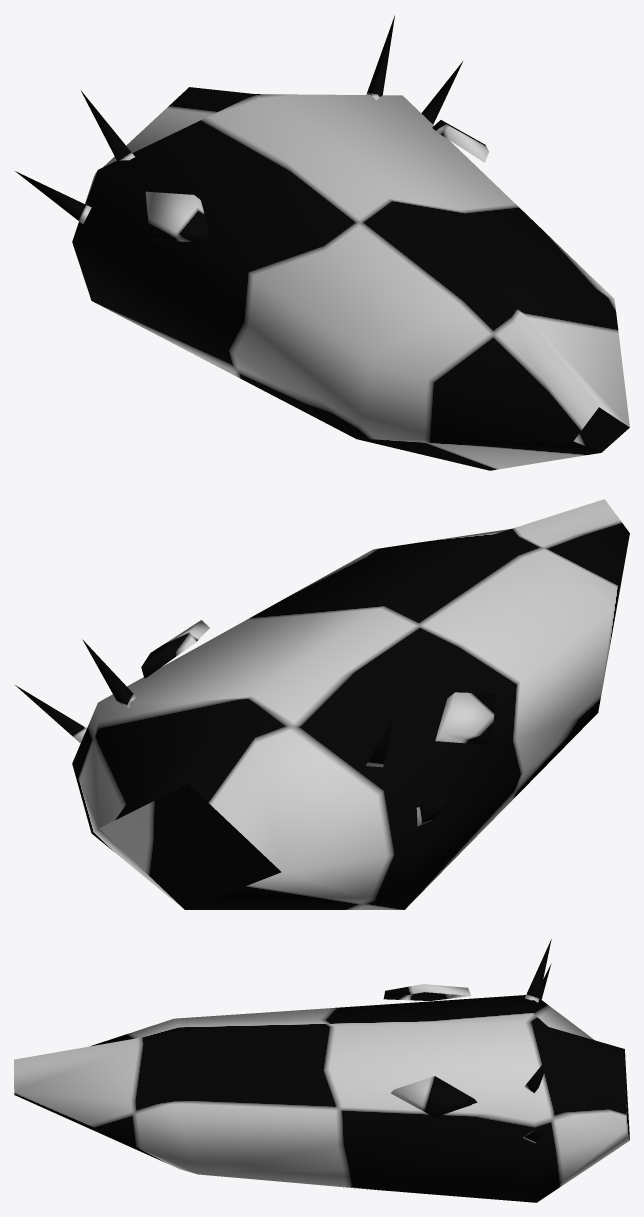
File: drone_flax_2.obj
The picture shows the model from 3 angles, top to bottom: view 1: azimuth 30°, elevation 25°; view 2: azimuth 150°, elevation 25°; view 3: azimuth 270°, elevation 25°; orthographic projection. The views are drawn at different scales.
Parts seen in each view (by area): view 1: main; view 2: main; view 3: main.
Part boxes in pixels (x1=…): main: x1=15, y1=15, x2=629, y2=470; main: x1=15, y1=499, x2=629, y2=909; main: x1=14, y1=939, x2=629, y2=1202.
Bounding box in the file's own units: 13.24 × 7.41 × 21.29.
Materials: 1 (1 with a texture image).
